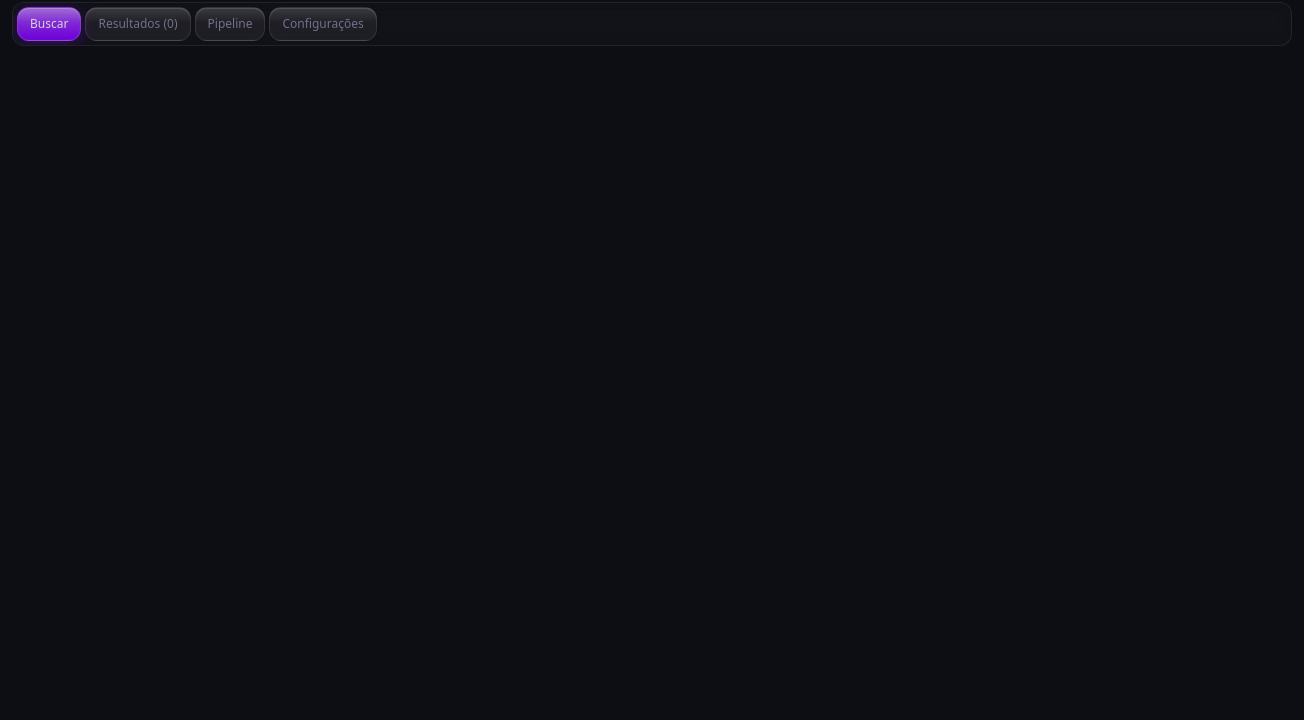
Scenario: Prospecção de leads › abre Resultados vazios sem inicializar o Leaflet
Step 1. Click the tab "Resultados (0)" → (138, 24), box [85,7,190,41]
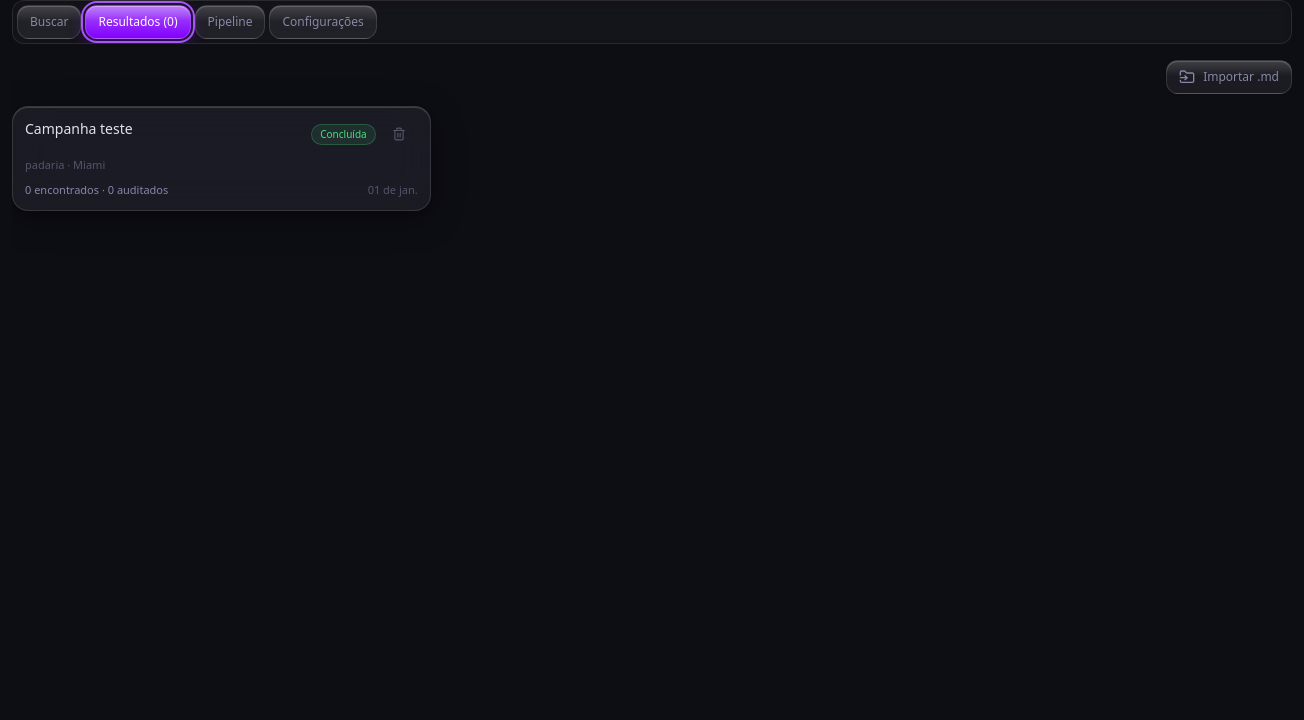
Step 2. Click the heading "Campanha teste" → (79, 129), box [25,119,133,139]
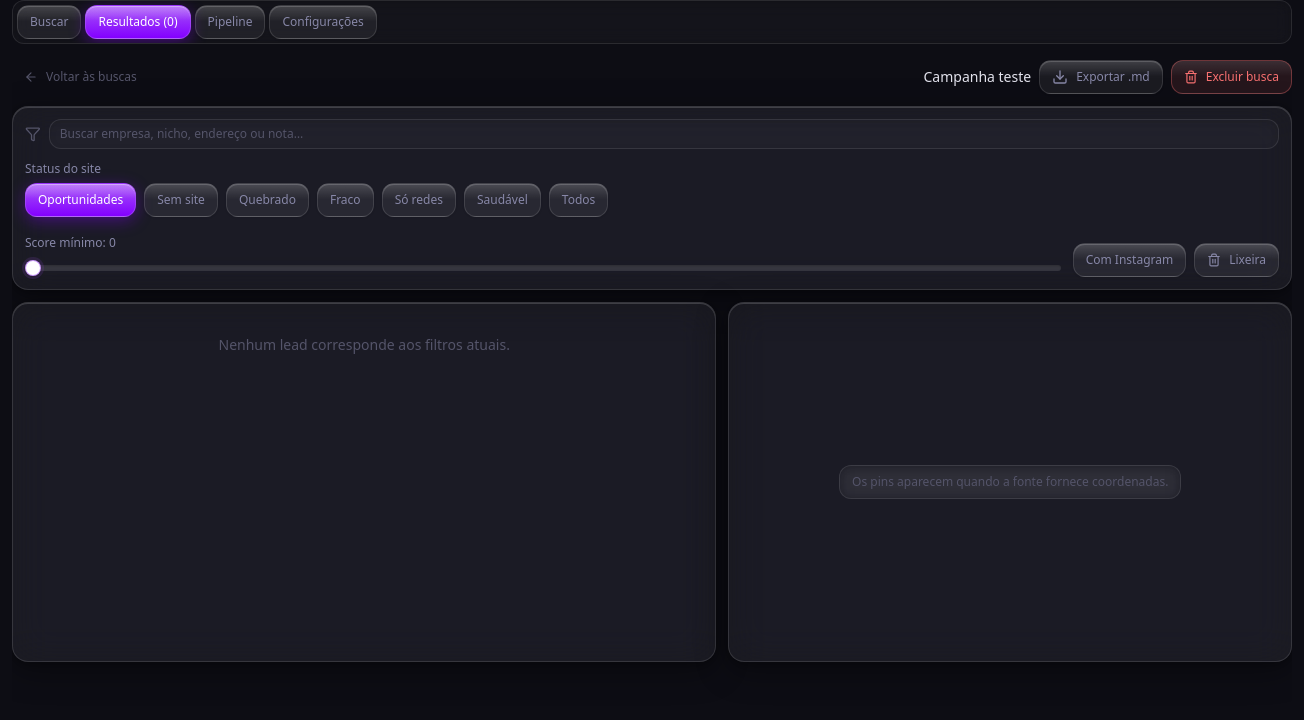
Result: the element named "Minimapa dos leads" shows "Os pins aparecem" at [852,473,1168,490]
